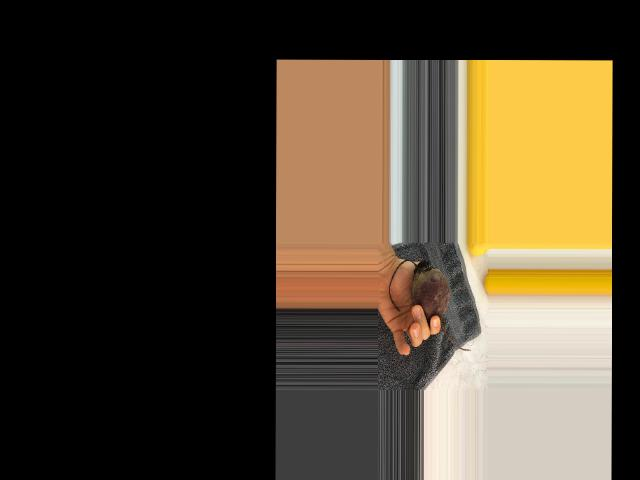beet: (388, 260, 471, 350)
